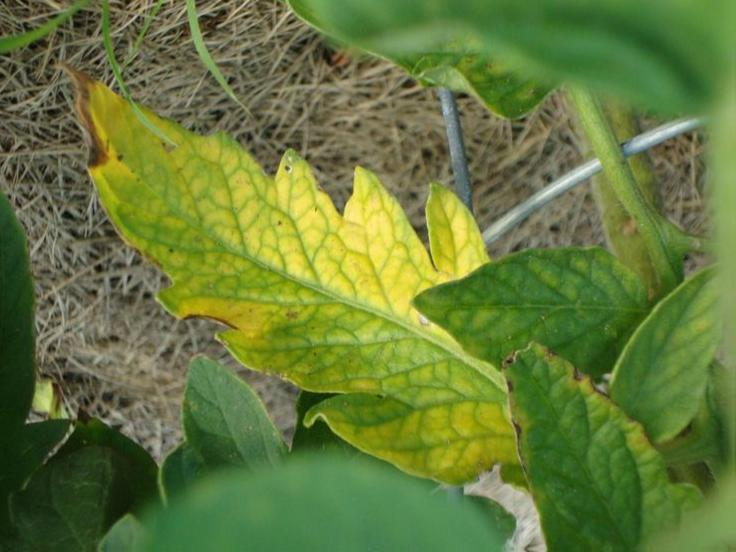Tomato mold leaf: (63, 76, 532, 492), (496, 339, 687, 548), (416, 243, 671, 378)
